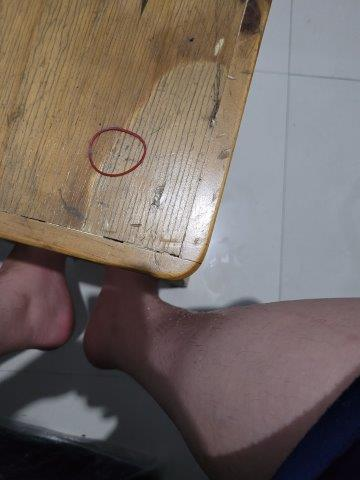karet: (87, 127, 146, 178)
